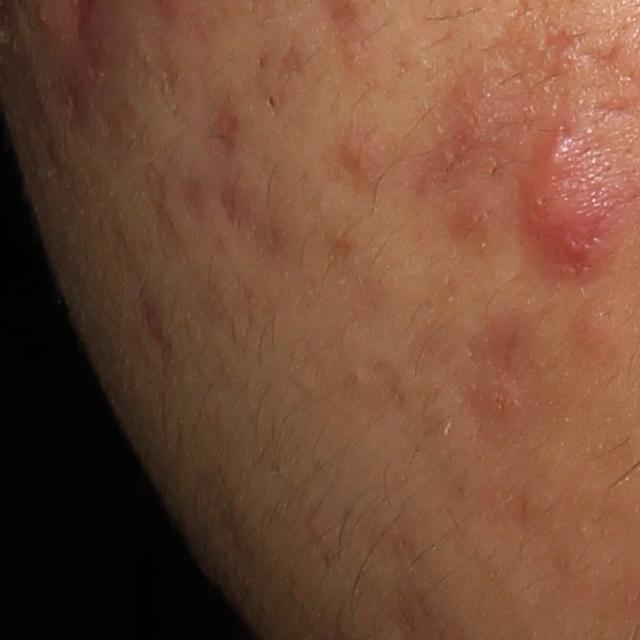comedo: (565, 302, 614, 352), (265, 92, 278, 113)
papule: (472, 374, 529, 430), (333, 137, 379, 180)
